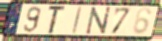6: (132, 7, 153, 37)
7: (111, 7, 133, 36)
9: (22, 6, 41, 34)
I: (70, 5, 83, 35)
N: (85, 6, 112, 36)
T: (47, 5, 68, 35)
